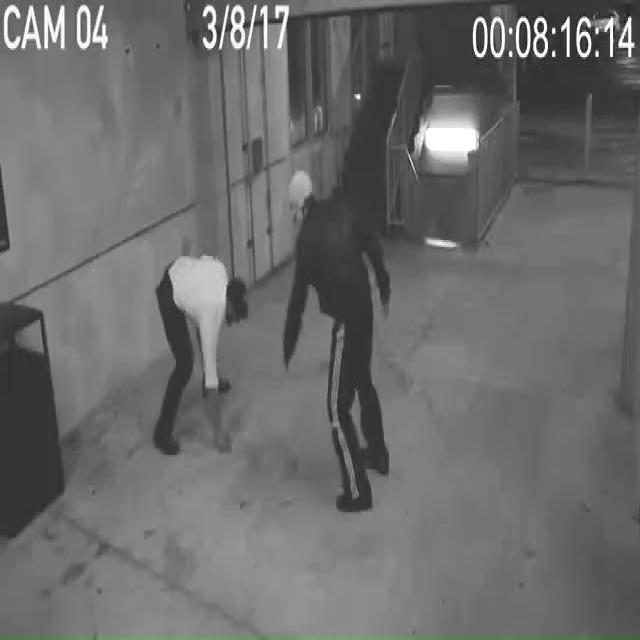fight: (153, 172, 390, 518)
